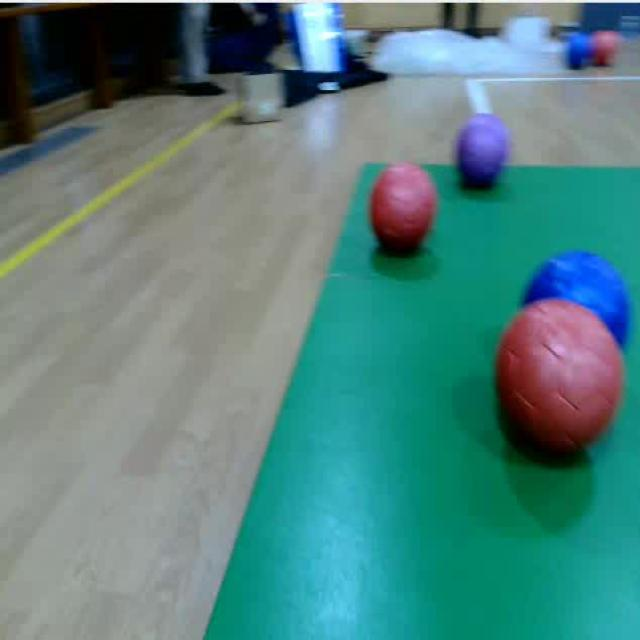blue_ball: (518, 249, 636, 302), (565, 32, 590, 70)
purple_ball: (453, 110, 513, 197)
red_ball: (488, 315, 617, 467), (366, 162, 438, 260), (594, 28, 620, 66)
